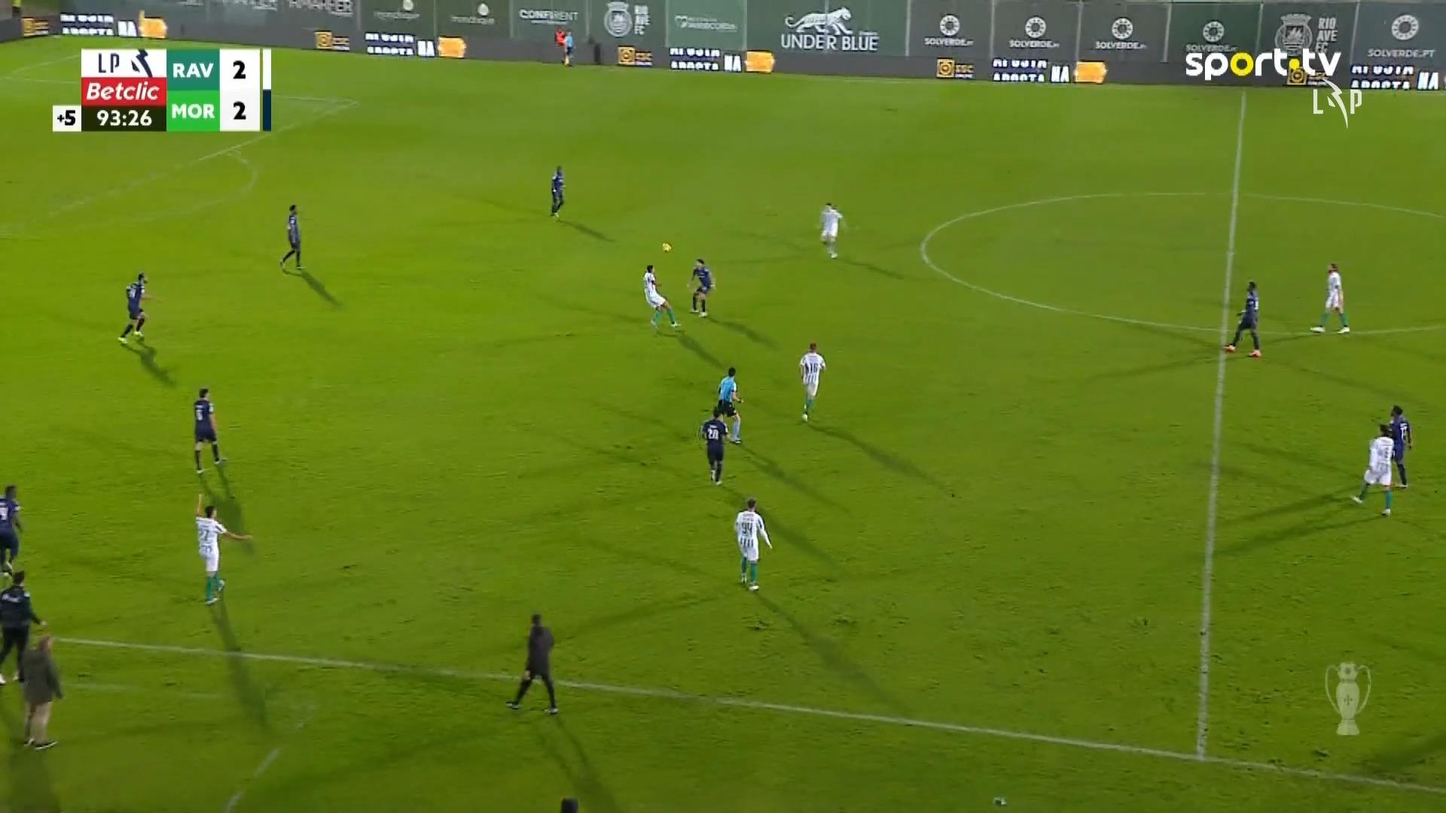ball: (661, 242, 671, 252)
player: (193, 491, 253, 605), (1350, 422, 1396, 516), (733, 497, 773, 591), (1223, 280, 1262, 357), (1309, 262, 1350, 333), (192, 386, 225, 474), (642, 264, 680, 329), (117, 271, 149, 345), (700, 405, 728, 485), (798, 341, 825, 422), (0, 483, 23, 576), (1387, 404, 1412, 487), (686, 257, 715, 318), (279, 203, 303, 270), (819, 202, 843, 259), (549, 164, 566, 218)
referee: (505, 612, 559, 714), (17, 633, 64, 749), (0, 568, 46, 684), (715, 366, 743, 444), (560, 29, 574, 66)
